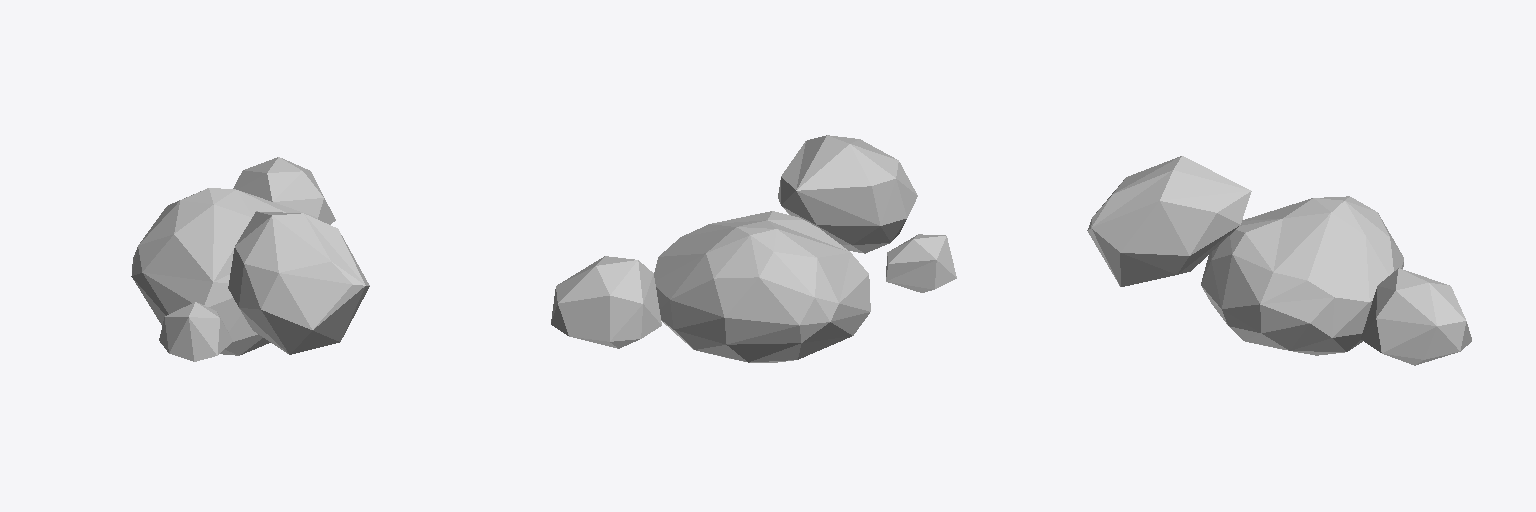
Rendered from scene_rock1.obj.
The picture shows the model from 3 angles: view 1: azimuth 30°, elevation 25°; view 2: azimuth 150°, elevation 25°; view 3: azimuth 270°, elevation 25°; orthographic projection.
Parts seen in each view (by area): view 1: Sphere.001, Sphere, Icosphere, Icosphere.001; view 2: Sphere, Sphere.001, Icosphere, Icosphere.001; view 3: Sphere, Sphere.001, Icosphere.
Part boxes in pixels (x1,y1,x2,y2): Sphere.001: (228,211,369,354); Sphere: (131,188,316,355); Icosphere: (233,157,335,224); Icosphere.001: (159,302,232,361); Sphere: (654,211,870,362); Sphere.001: (778,135,917,253); Icosphere: (551,256,661,348); Icosphere.001: (886,234,956,292); Sphere: (1201,196,1403,355); Sphere.001: (1087,156,1251,286); Icosphere: (1361,268,1471,365).
Bounding box in the file's own units: 5.72 × 3.34 × 6.91.